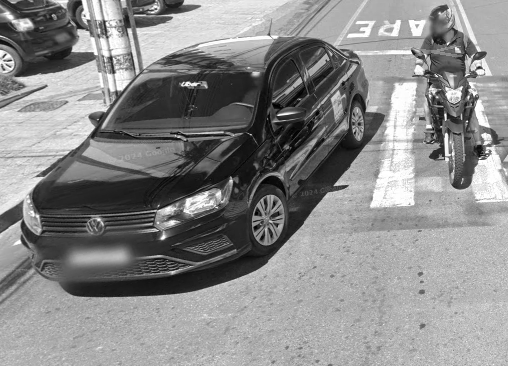car: (13, 17, 372, 296)
